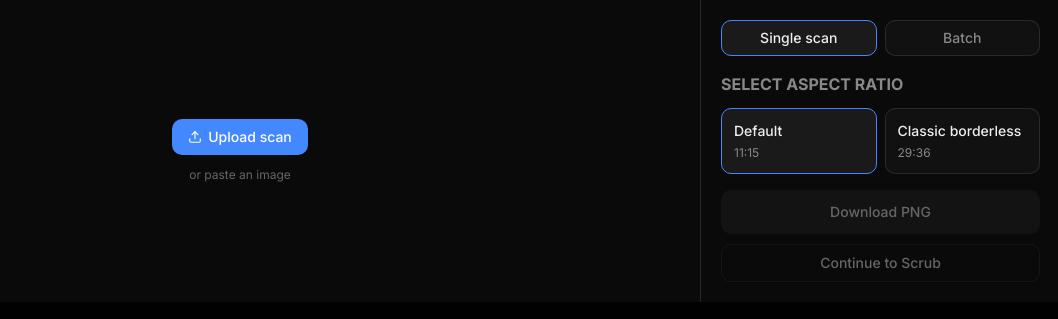
Test: PadderPageContent › switches to batch mode, replacing the single-scan controls with the batch panel
This screenshot has width=1058, height=319.
Click the radio button with test id "mode-batch": (962, 38) [884,20,1040,56]
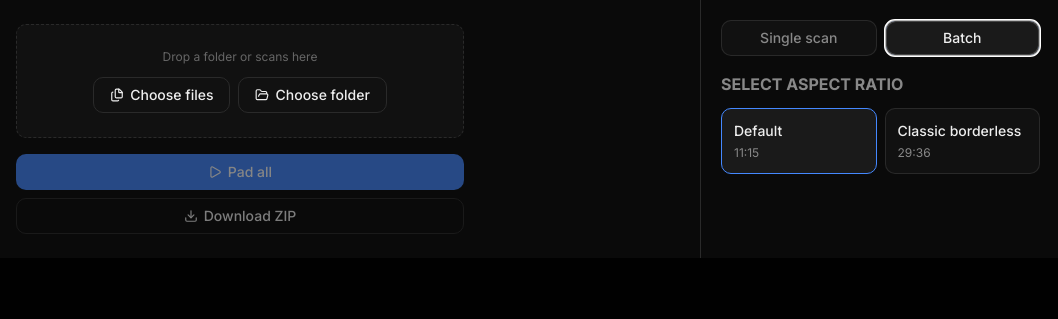
Result: the element with test id "batch-drop-zone" is shown at [16,24,464,138]
Result: the button with test id "padder-upload-btn" is gone
Result: the button with test id "padder-download-btn" is gone
